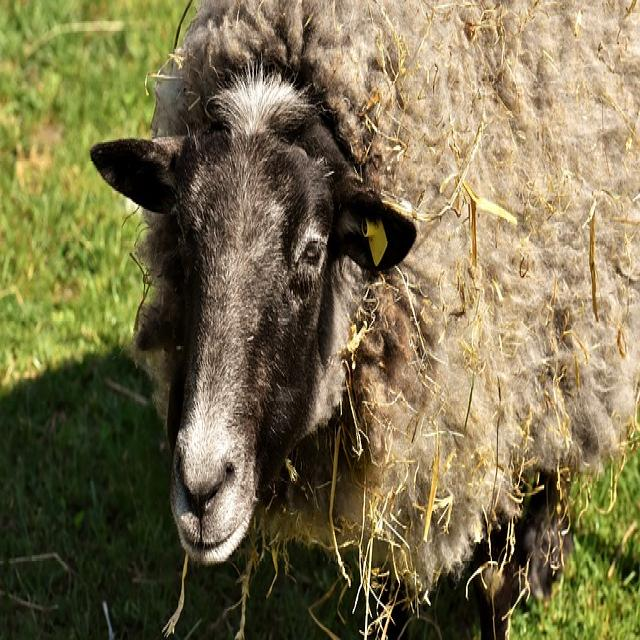sheep: (90, 0, 638, 637)
